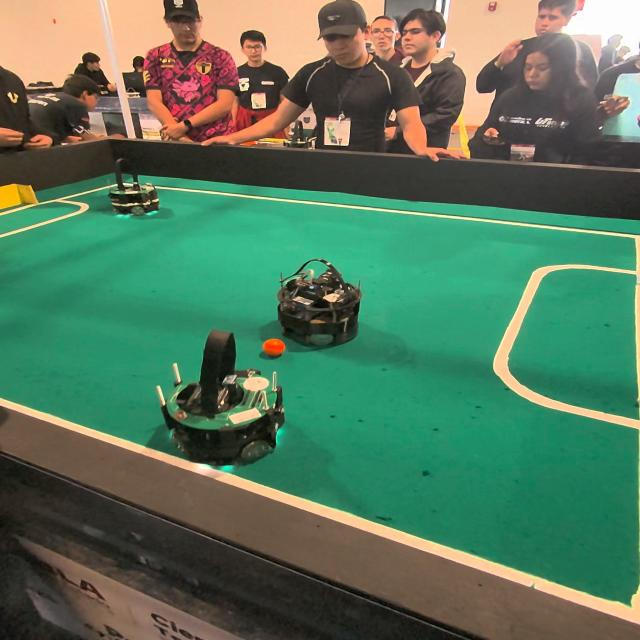Robot: (145, 327, 299, 470), (276, 256, 365, 348), (108, 156, 165, 222)
pelota: (262, 338, 288, 360)
